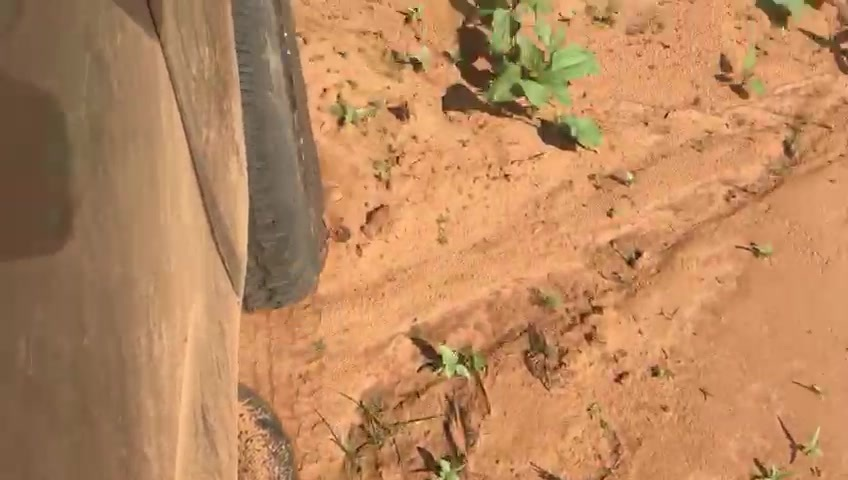sunflower: (478, 17, 612, 122)
